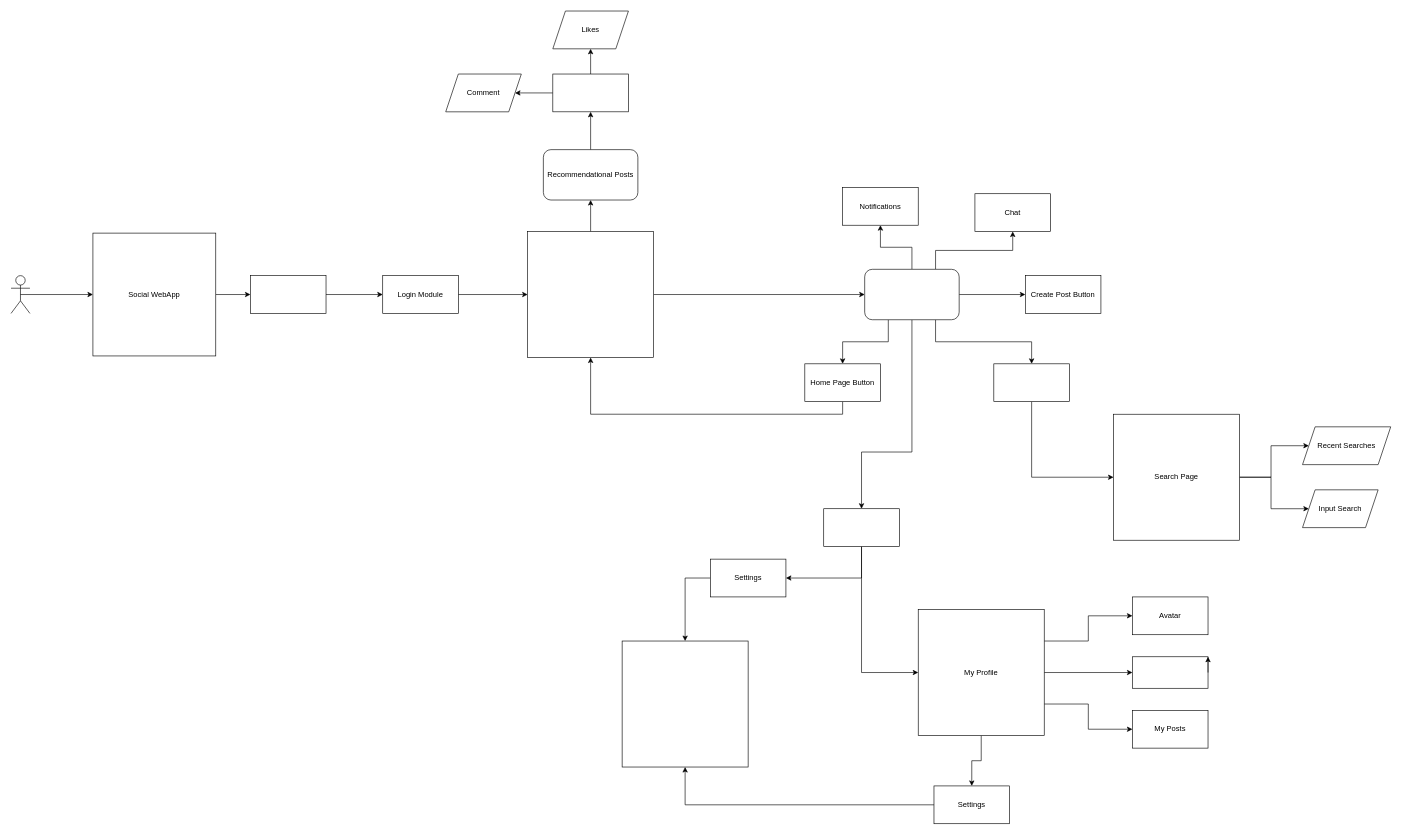
Some shapes in this 1402 by 835 pixel diagram are drawn without their labels. The centre of each missing label's shape, as x and y in pixels:
Follows/Followers: pixel 1170 672
Main page: pixel 590 294
Mini Profile: pixel 861 527
Post: pixel 590 92
Registration Module: pixel 288 294
Search: pixel 1031 382
Settings Page: pixel 684 703
SideBar: pixel 911 294
User: pixel 20 294
